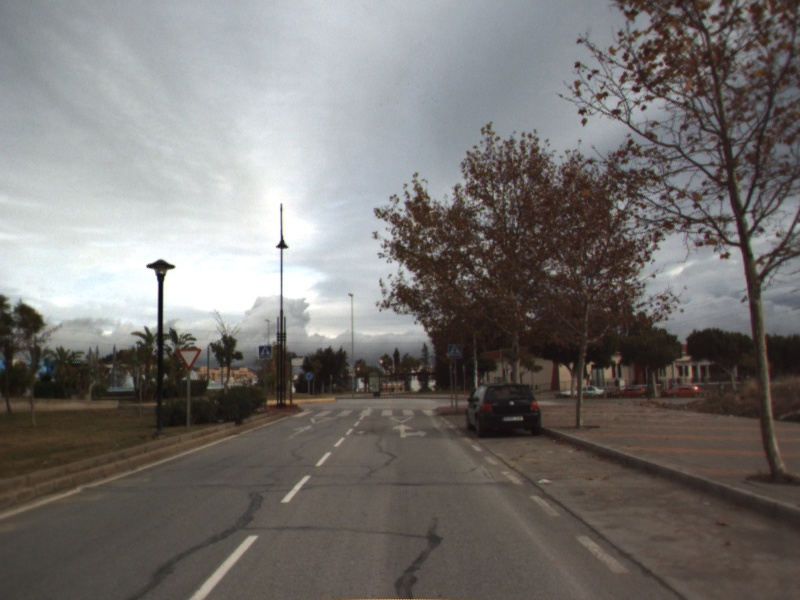STRAIGHT: (287, 423, 317, 440)
STRAIGHT_RIGHT: (390, 422, 429, 439)
